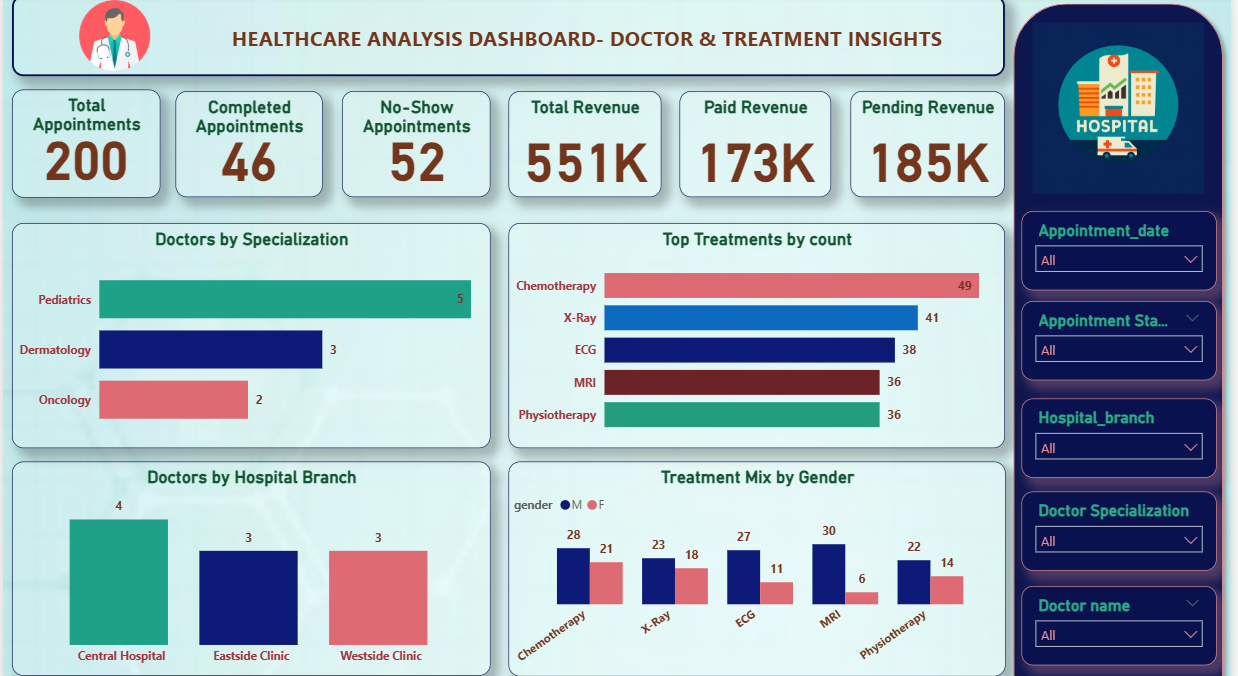

The dashboard page shown, as its layout file describes it:
{"tool":"powerbi","page":{"name":"Dashboard 1","canvas":[1280,720],"ordinal":0},"visuals":[{"type":"shape","box":[1044.1,0,236,720.5],"z":0},{"type":"textbox","box":[9.4,0,1034.7,84.4],"z":1000},{"type":"image","box":[0,0,223.5,84.4],"z":2000},{"type":"image","box":[1061.3,23.4,203.2,189.1],"z":3000},{"type":"card","title":"Total Appointments","fields":{"Values":["CountNonNull(appointments.appointment_id)"]},"box":[9.4,98.5,154.7,112.5],"z":4000},{"type":"card","title":"Completed Appointments","fields":{"Values":["CountNonNull(appointments.appointment_id)"]},"box":[179.7,100,153.2,111],"z":5000},{"type":"card","title":"No-Show Appointments","fields":{"Values":["CountNonNull(appointments.appointment_id)"]},"box":[353.2,100,154.7,111],"z":6000},{"type":"card","title":"Total Revenue","fields":{"Values":["Sum(billing.amount)"]},"box":[526.7,100,159.4,111],"z":7000},{"type":"card","title":"Paid Revenue","fields":{"Values":["Sum(billing.amount)"]},"box":[704.9,100,157.9,111],"z":8000},{"type":"card","title":"Pending Revenue","fields":{"Values":["Sum(billing.amount)"]},"box":[883.1,100,161,111],"z":9000},{"type":"slicer","fields":{"Values":["appointments.appointment_date"]},"box":[1061.3,225.1,203.2,82.8],"z":10000},{"type":"slicer","fields":{"Values":["appointments.status"]},"box":[1061.3,318.8,203.2,82.8],"z":11000},{"type":"slicer","fields":{"Values":["doctors.hospital_branch"]},"box":[1061.3,420.4,203.2,82.8],"z":12000},{"type":"slicer","fields":{"Values":["doctors.specialization"]},"box":[1061.3,517.3,203.2,82.8],"z":13000},{"type":"slicer","fields":{"Values":["doctors.Full name"]},"box":[1061.3,615.8,203.2,82.8],"z":14000},{"type":"treemap","title":"Treatment Distribution by Type","fields":{"Group":["treatments.treatment_type"],"Values":["Sum(treatments.cost)"]},"box":[9.4,225.1,498.6,237.6],"z":15000},{"type":"lineChart","title":"Monthly Appointment Trend","fields":{"Category":["appointments.appointment_date.Variation.Date Hierarchy.Month"],"Y":["CountNonNull(appointments.appointment_id)"]},"box":[9.4,473.6,498.6,225.1],"z":16000},{"type":"lineChart","title":"Monthly Revenue Trend","fields":{"Category":["billing.bill_date.Variation.Date Hierarchy.Month"],"Y":["Sum(billing.amount)"]},"box":[526.7,473.6,517.3,225.1],"z":17000},{"type":"barChart","title":"Revenue by Hospital Branch","fields":{"Category":["doctors.hospital_branch"],"Y":["Sum(billing.amount)"]},"box":[526.7,225.1,517.3,237.6],"z":18000}]}

Visuals, with their boxes on the page's 1280x720 design canvas (x1, y1, x2, y2). These are canvas units, not pixel positions in the 1238x676 screenshot, which may show the page scaled, cropped or inside an application window:
shape: <region>1044, 0, 1280, 720</region>
textbox: <region>9, 0, 1044, 84</region>
image: <region>0, 0, 224, 84</region>
image: <region>1061, 23, 1264, 212</region>
"Total Appointments" card: <region>9, 98, 164, 211</region>
"Completed Appointments" card: <region>180, 100, 333, 211</region>
"No-Show Appointments" card: <region>353, 100, 508, 211</region>
"Total Revenue" card: <region>527, 100, 686, 211</region>
"Paid Revenue" card: <region>705, 100, 863, 211</region>
"Pending Revenue" card: <region>883, 100, 1044, 211</region>
slicer - appointments.appointment_date: <region>1061, 225, 1264, 308</region>
slicer - appointments.status: <region>1061, 319, 1264, 402</region>
slicer - doctors.hospital_branch: <region>1061, 420, 1264, 503</region>
slicer - doctors.specialization: <region>1061, 517, 1264, 600</region>
slicer - doctors.Full name: <region>1061, 616, 1264, 699</region>
"Treatment Distribution by Type" treemap: <region>9, 225, 508, 463</region>
"Monthly Appointment Trend" lineChart: <region>9, 474, 508, 699</region>
"Monthly Revenue Trend" lineChart: <region>527, 474, 1044, 699</region>
"Revenue by Hospital Branch" barChart: <region>527, 225, 1044, 463</region>
